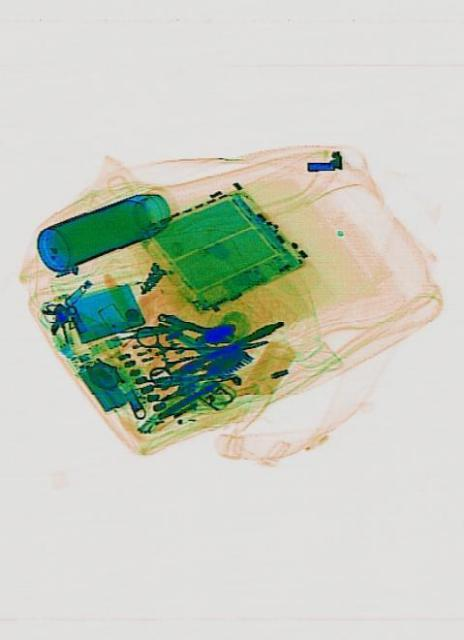Scissors: (132, 306, 270, 392)
